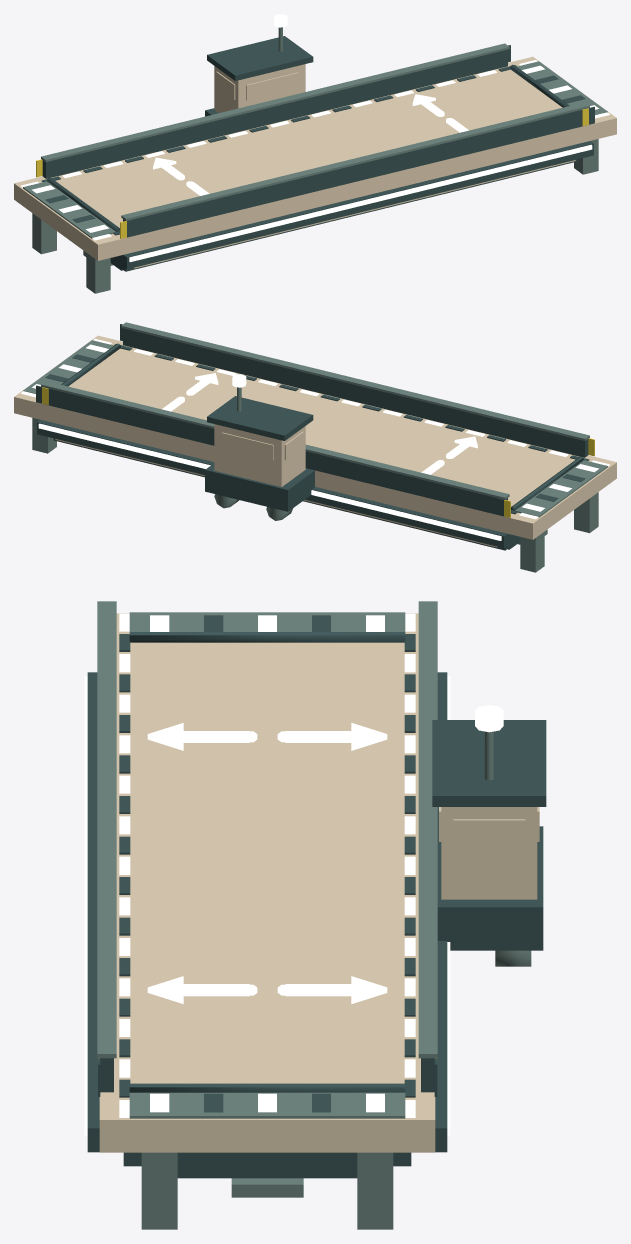
Rendered from Deck_Ferry_v4_10_lab2.glb.
3 renders of one model, top to bottom at view 1: azimuth 30°, elevation 25°; view 2: azimuth 150°, elevation 25°; view 3: azimuth 270°, elevation 25°, orthographic. The views are drawn at different scales.
Visible parts, largest first — view 1: Deck_Ferry_v4_10; view 2: Deck_Ferry_v4_10; view 3: Deck_Ferry_v4_10.
Boxes of the visible parts, <box> form: Deck_Ferry_v4_10: <box>14,14,616,293</box>; Deck_Ferry_v4_10: <box>14,322,616,572</box>; Deck_Ferry_v4_10: <box>84,601,546,1229</box>.
Bounding box in the file's own units: 10 × 2.7 × 3.85.
